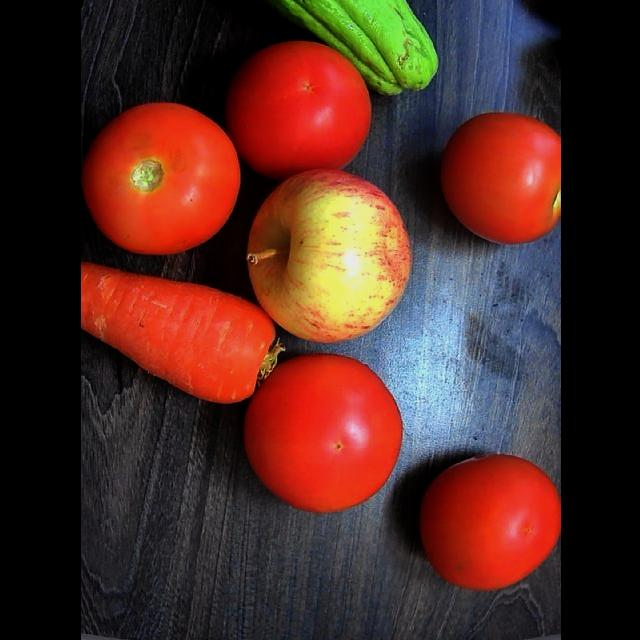chayote: (258, 1, 437, 96)
manzana: (246, 170, 410, 342)
tomate: (243, 354, 400, 512), (81, 104, 239, 255), (225, 41, 370, 180), (419, 455, 560, 591), (440, 113, 560, 245)
zanahoria: (81, 263, 283, 405)
